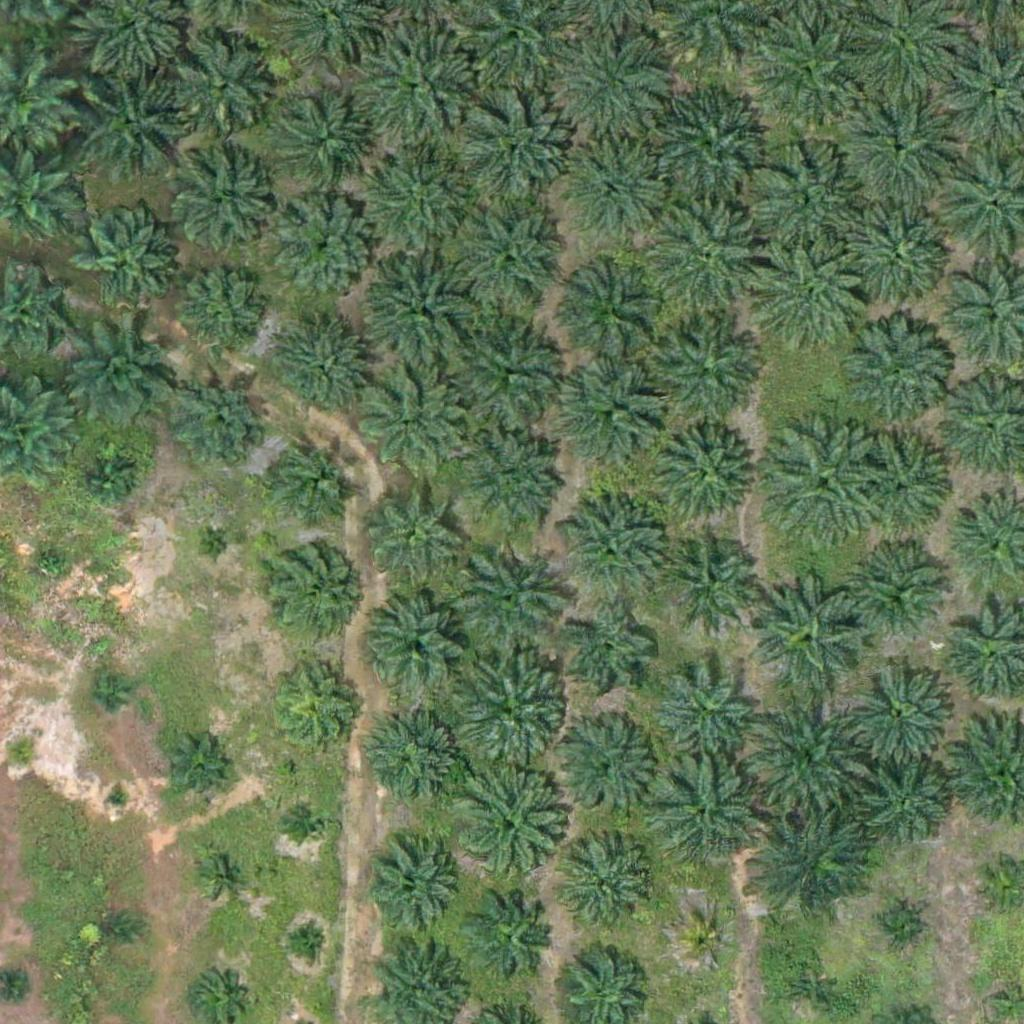Kelapa_Sawit: (356, 247, 481, 373), (353, 140, 478, 266), (353, 18, 478, 144), (454, 91, 579, 217), (447, 311, 572, 437), (549, 29, 674, 155), (647, 82, 772, 208), (643, 193, 768, 319), (751, 238, 876, 364), (744, 140, 869, 266), (838, 81, 963, 207), (834, 188, 959, 314), (830, 309, 955, 435), (759, 420, 884, 546), (744, 690, 869, 816), (752, 801, 877, 927), (445, 648, 570, 773), (445, 767, 570, 892), (76, 71, 189, 184), (67, 320, 180, 433), (452, 204, 565, 317), (652, 759, 765, 872), (557, 494, 670, 607), (454, 425, 567, 538), (451, 543, 564, 656), (844, 651, 956, 765), (754, 571, 866, 685), (559, 254, 671, 367), (648, 320, 760, 433), (356, 370, 468, 483), (75, 211, 175, 312), (172, 159, 272, 260), (170, 38, 270, 139), (276, 197, 376, 298), (272, 322, 372, 423), (759, 17, 859, 118), (850, 427, 950, 528), (656, 660, 756, 761), (560, 606, 660, 707), (555, 715, 655, 816), (358, 476, 458, 577), (369, 593, 469, 694), (366, 712, 466, 813), (363, 840, 463, 941), (261, 431, 361, 532), (263, 537, 363, 638), (268, 658, 368, 759), (571, 149, 671, 249), (853, 542, 953, 642), (653, 422, 753, 522), (662, 530, 762, 630), (565, 366, 665, 466), (566, 844, 654, 933), (279, 102, 367, 190), (862, 762, 950, 850), (470, 895, 558, 983), (176, 376, 263, 465), (175, 269, 262, 357), (163, 739, 226, 802), (778, 959, 840, 1022), (82, 453, 132, 504), (193, 969, 243, 1020), (871, 901, 921, 952), (682, 918, 732, 968), (99, 911, 137, 949), (34, 546, 72, 584), (196, 527, 234, 565), (2, 736, 40, 774), (293, 805, 331, 843), (287, 922, 324, 960), (205, 855, 242, 893), (86, 675, 123, 713), (105, 785, 130, 810)
